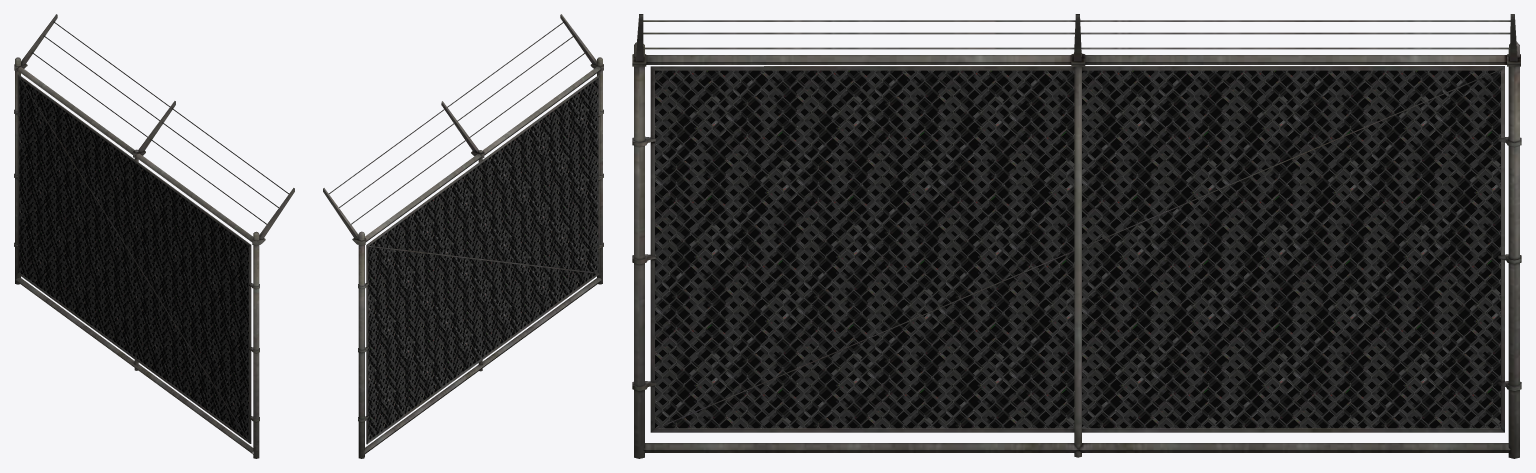
Rendered from exterior_fence002d.glb.
3 views of the same model, side by side, from view 1: azimuth 30°, elevation 25°; view 2: azimuth 150°, elevation 25°; view 3: azimuth 270°, elevation 25° (orthographic). The views are drawn at different scales.
Visible parts, largest first — view 1: 1_fence_alpha, 0_fence_sheet01; view 2: 1_fence_alpha, 0_fence_sheet01; view 3: 1_fence_alpha, 0_fence_sheet01.
Boxes of the visible parts, <box> form: 1_fence_alpha: <box>19,79,248,439</box>; 0_fence_sheet01: <box>14,14,294,458</box>; 1_fence_alpha: <box>368,78,598,440</box>; 0_fence_sheet01: <box>323,14,603,458</box>; 1_fence_alpha: <box>655,70,1500,428</box>; 0_fence_sheet01: <box>632,14,1521,458</box>.
Size of the model in its own units: 0.6618 by 3.86 by 6.53.
Materials: 2 (2 with a texture image).
